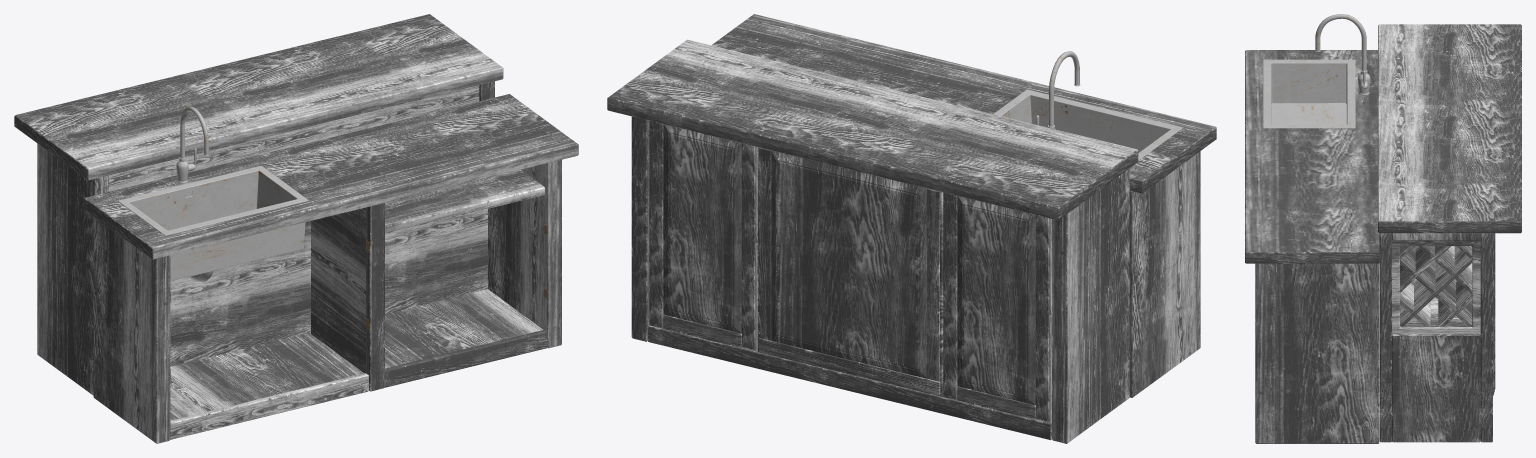
Rendered from SM_KitchenSet_A3_Base.fbx.
3 views of the same model, side by side, from view 1: azimuth 30°, elevation 25°; view 2: azimuth 150°, elevation 25°; view 3: azimuth 270°, elevation 25° (orthographic). The views are drawn at different scales.
Parts seen in each view (by area): view 1: SM_KitchenSet_A3_Base; view 2: SM_KitchenSet_A3_Base; view 3: SM_KitchenSet_A3_Base.
Boxes of the visible parts, bbox=[...] form: SM_KitchenSet_A3_Base: bbox=[14, 14, 578, 443]; SM_KitchenSet_A3_Base: bbox=[607, 14, 1216, 443]; SM_KitchenSet_A3_Base: bbox=[1245, 14, 1521, 443].
Size of the model in its own units: 188 by 109 by 120.
4 materials, 4 textured.
